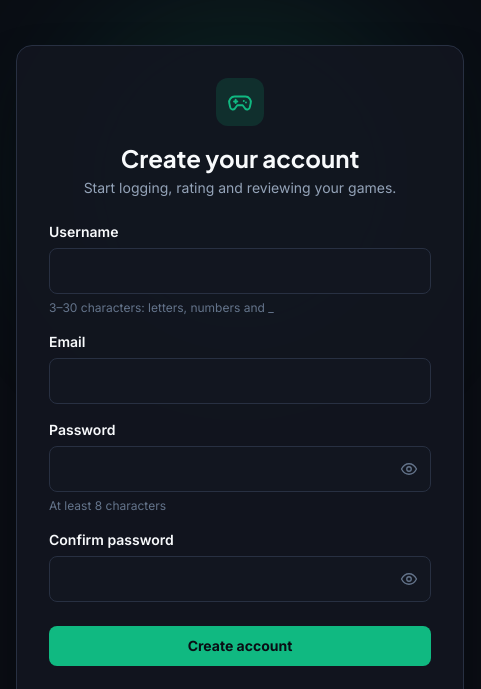
Test: RegisterView › shows network problems at the top of the form
Type "new_player" into the field labelled "Username".
click(240, 271); type("new_player")  # box [49, 248, 431, 294]
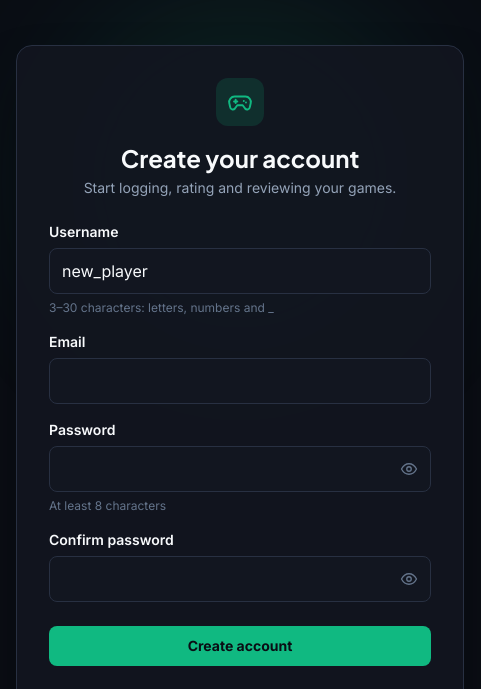
Type "player@mail.com" into the field labelled "Email".
click(240, 381); type("player@mail.com")  # box [49, 358, 431, 404]
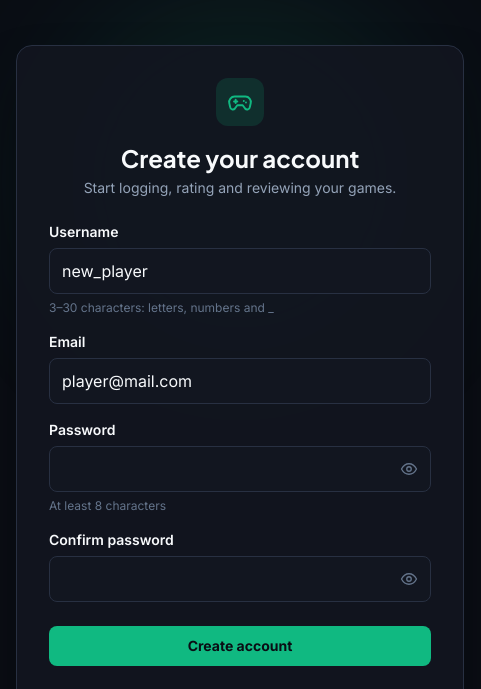
Type "secret123" into the password field labelled "Password".
click(240, 469); type("secret123")  # box [49, 446, 431, 492]
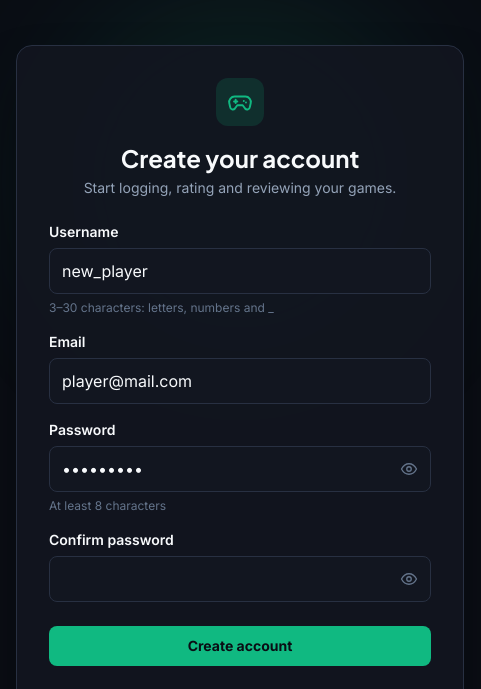
Type "secret123" into the password field labelled "Confirm password".
click(240, 579); type("secret123")  # box [49, 556, 431, 602]
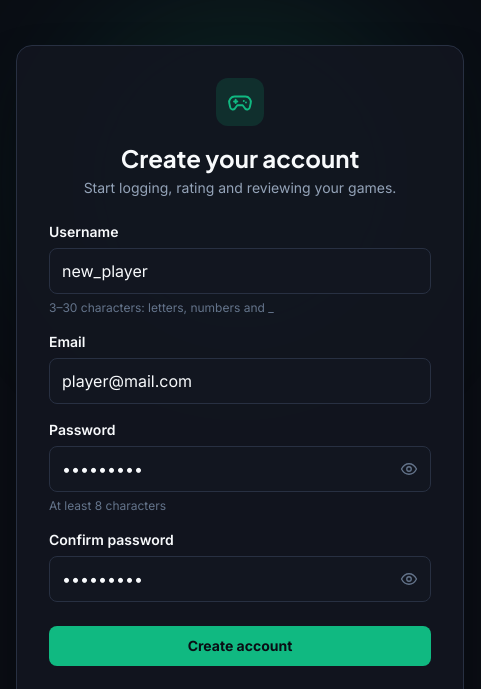
Submit the form, box [49, 222, 431, 666]
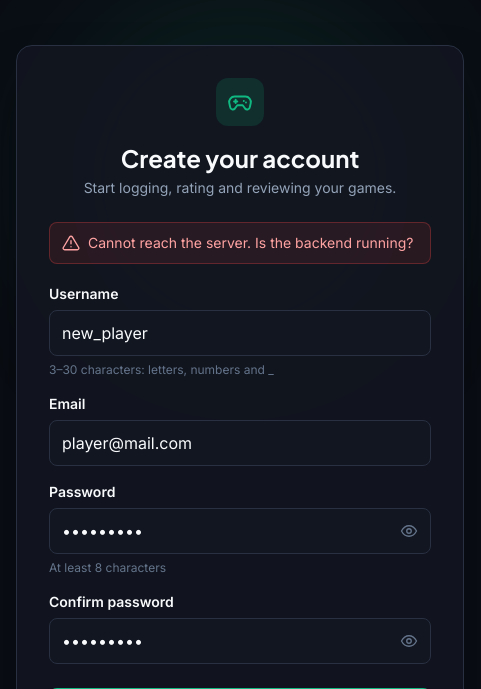
Now the message with test id "form-error" shows "Cannot reach the server", box [88, 234, 414, 251]
